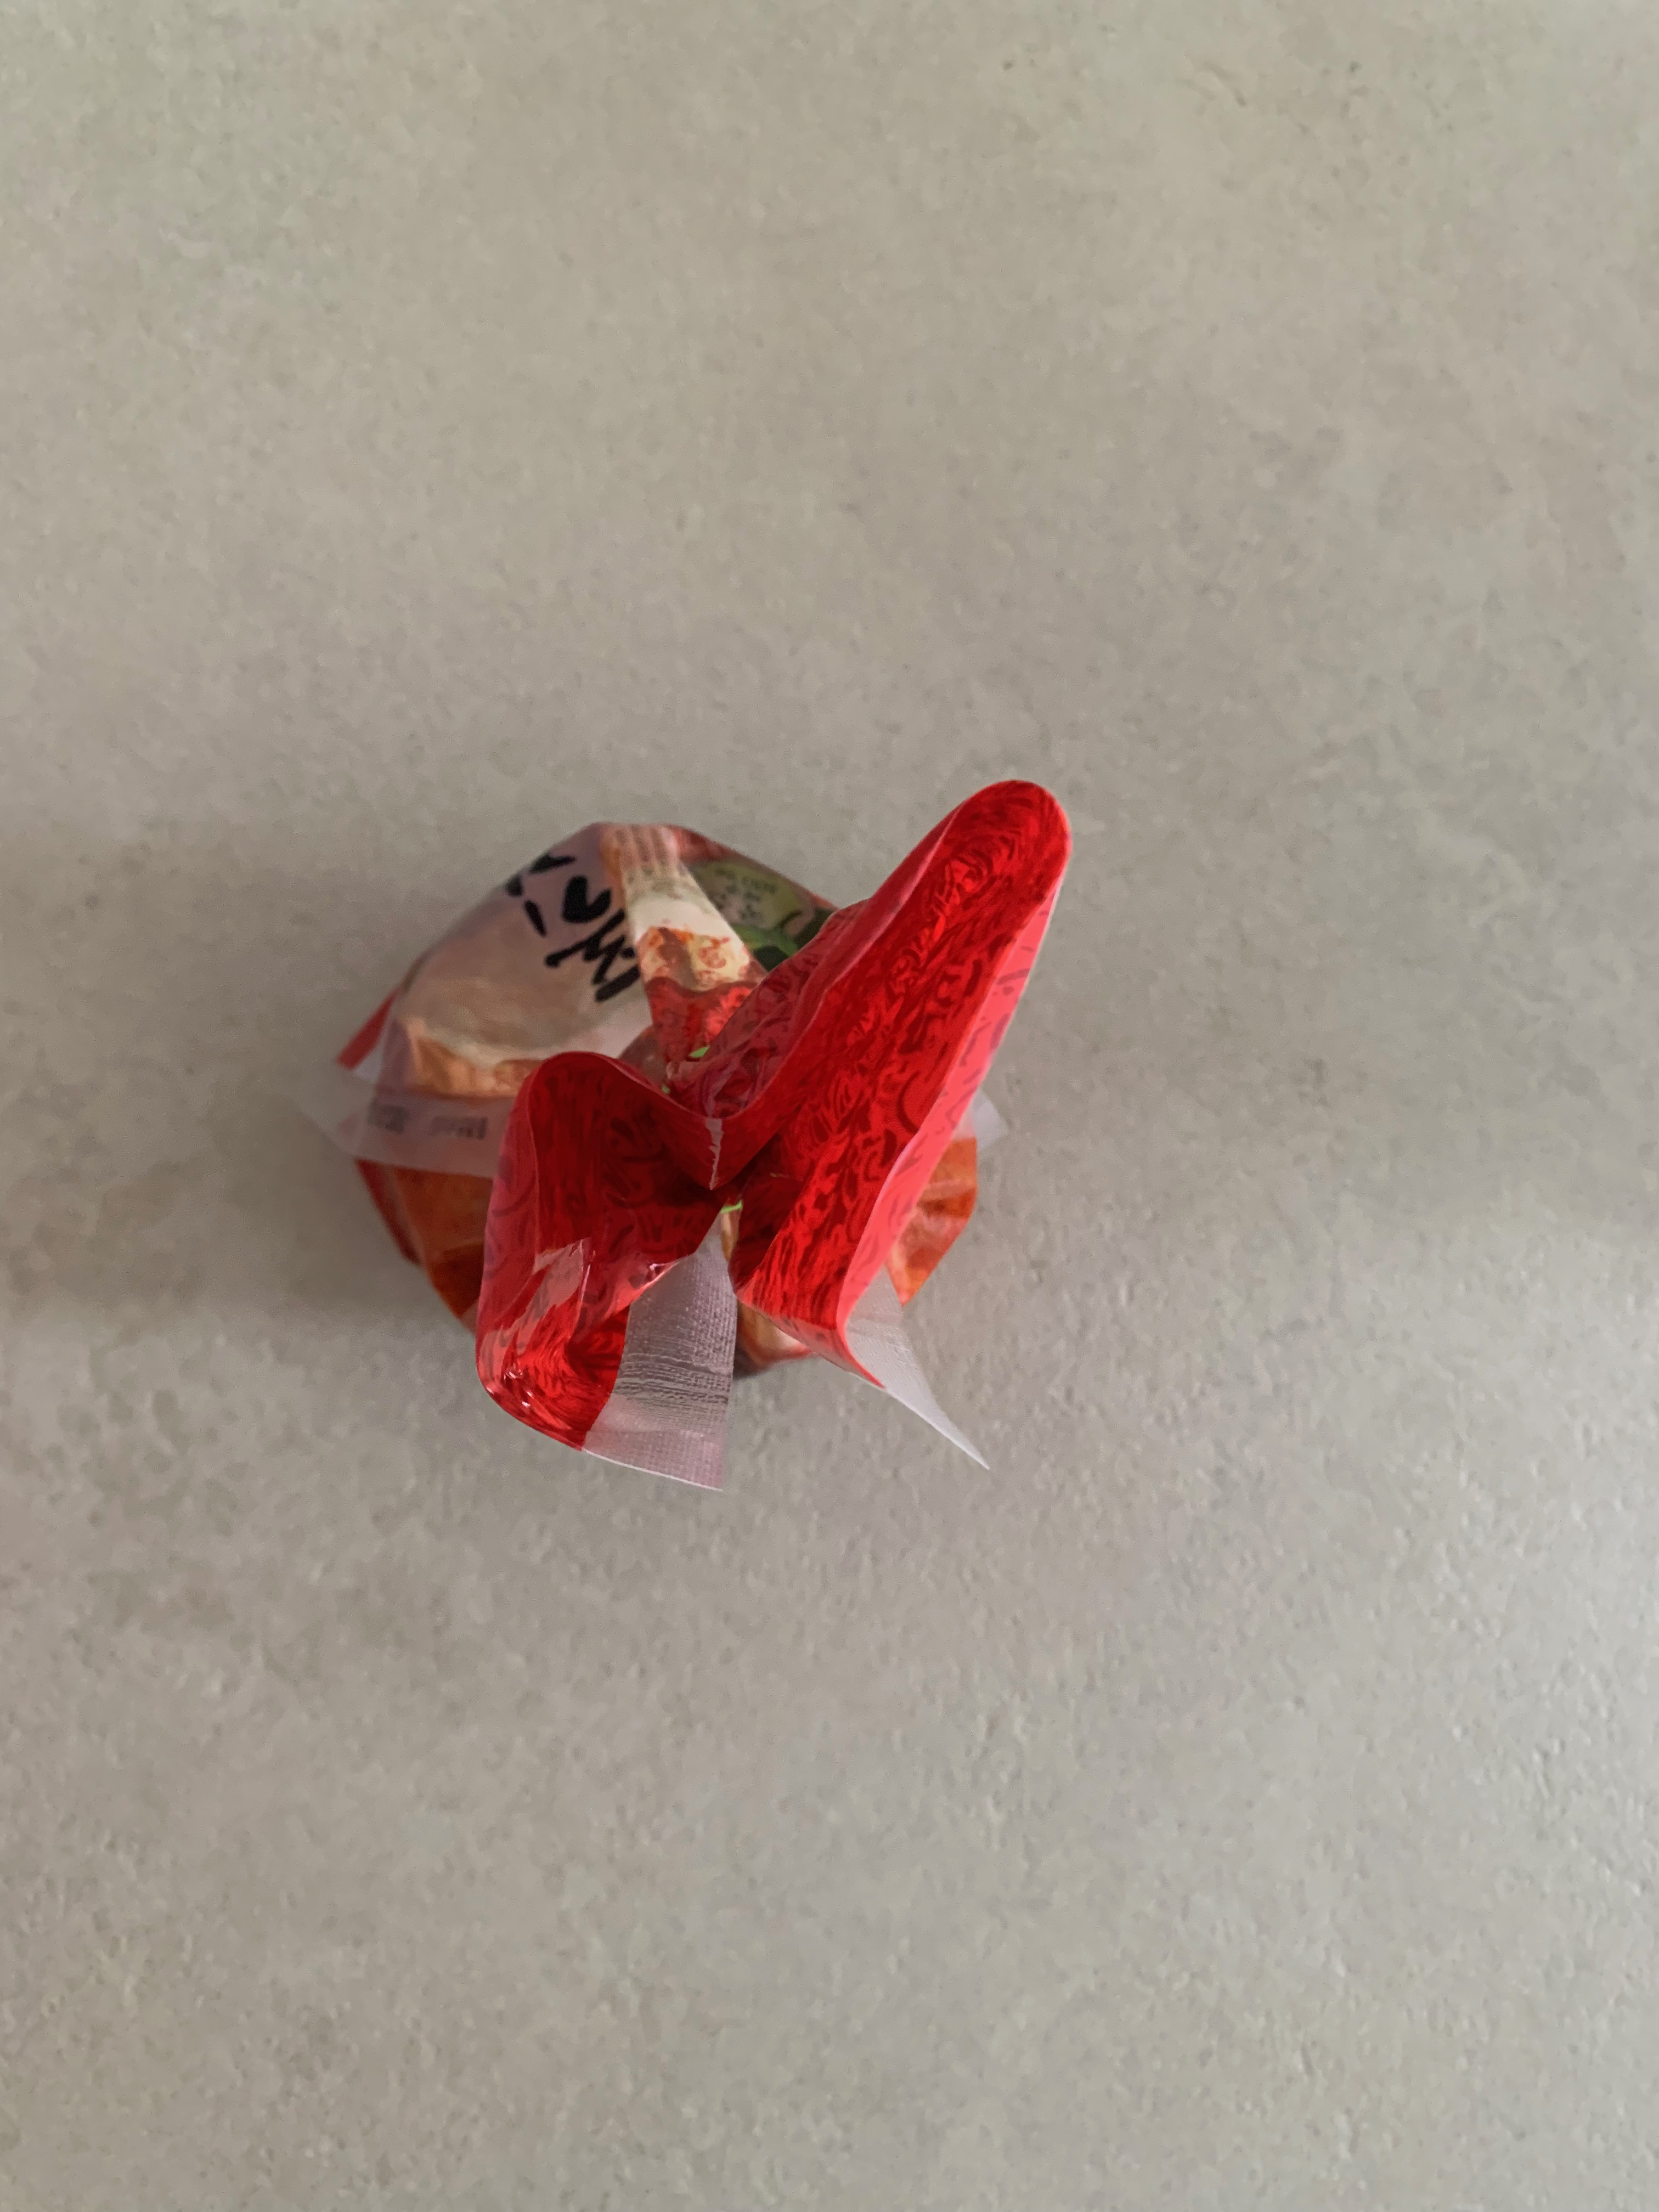kimchi: (338, 777, 1077, 1465)
